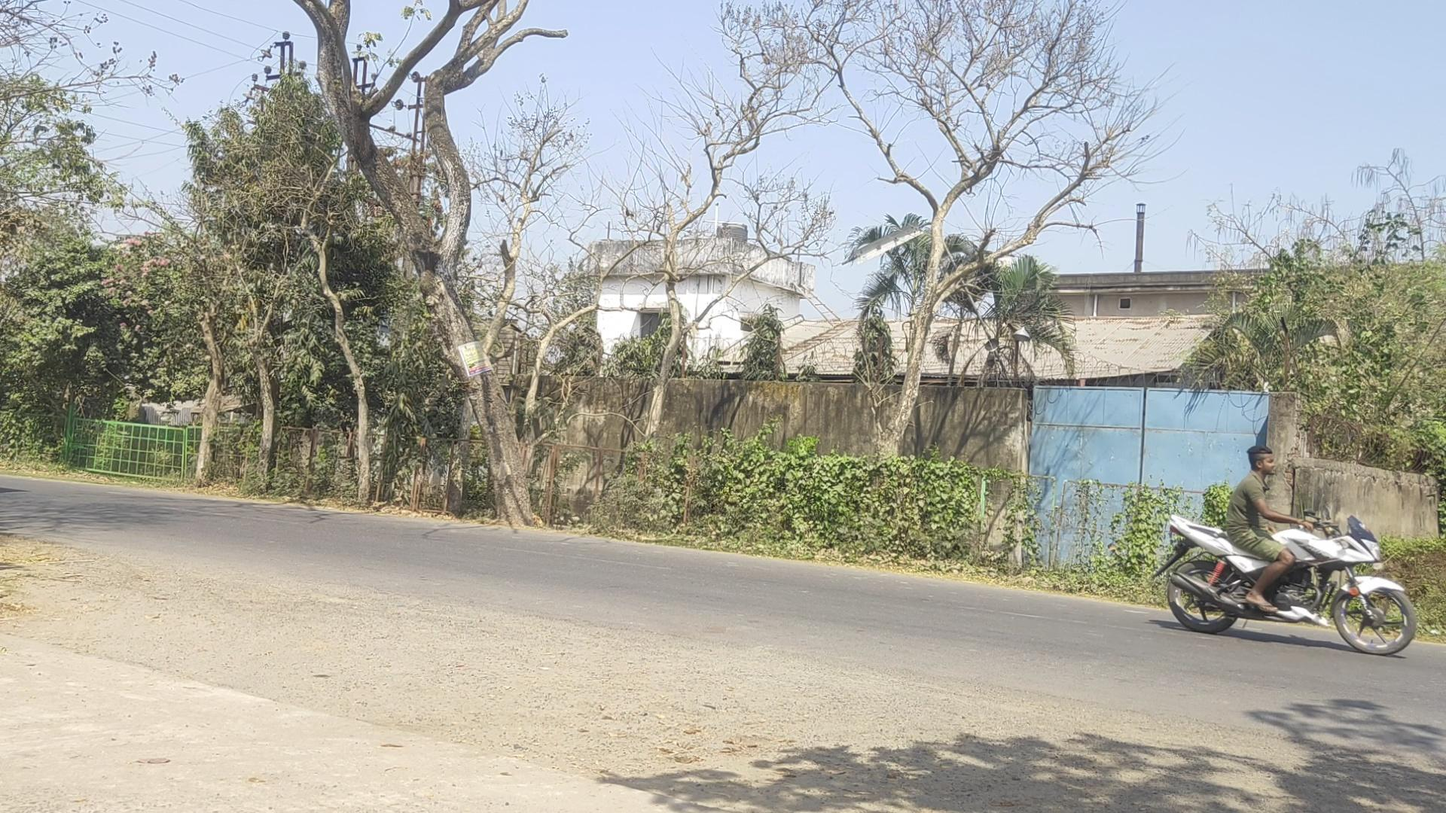bike: (1153, 447, 1418, 655)
